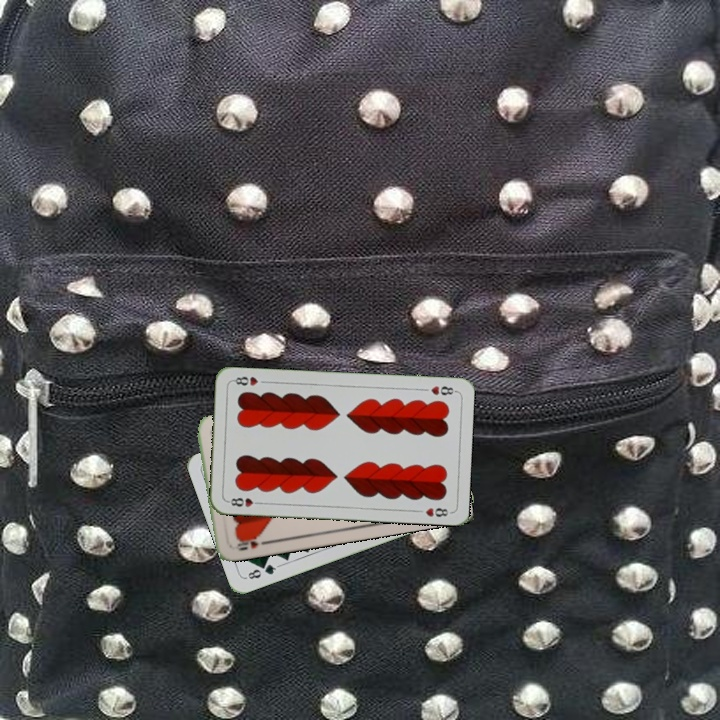G8: (242, 560, 281, 582)
H8: (224, 494, 264, 509), (427, 382, 458, 398)
HO: (232, 532, 271, 553)
